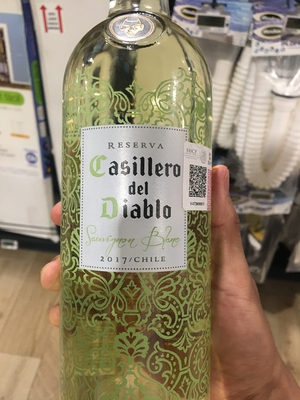casillero del diablo sauvignon blanc: (51, 23, 213, 400)
